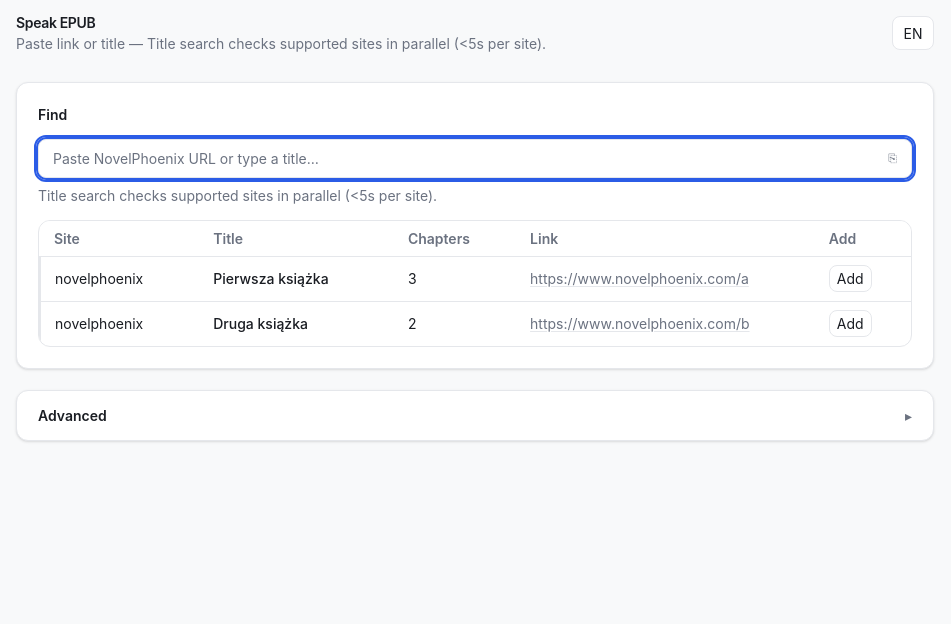
Test case: App — batch queue › converts the queued novels one after another
Click the button with test id "queue-add-0": (850, 279) x1=829 y1=265 x2=872 y2=292
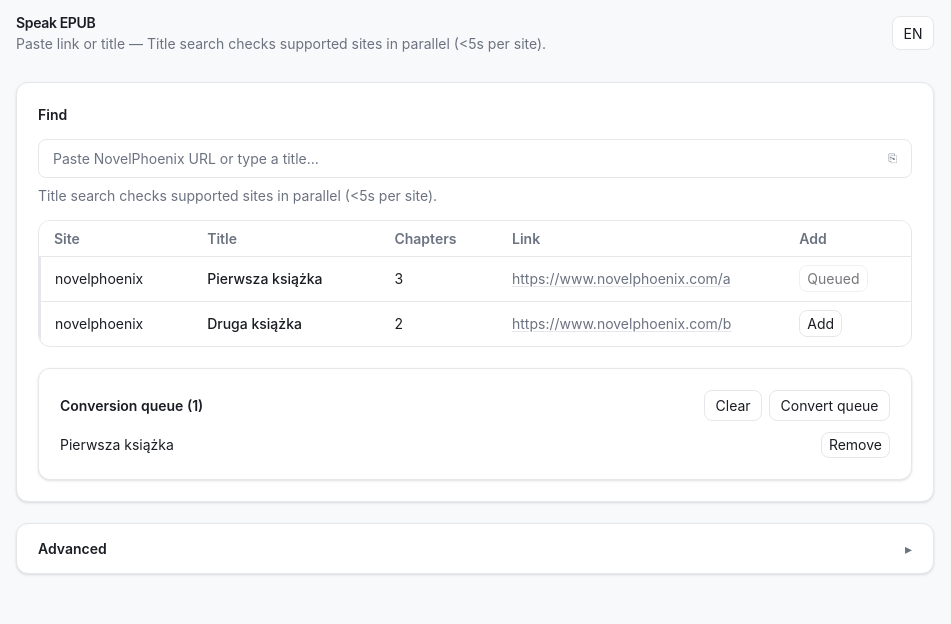
Expected: the element with test id "queue-panel" is shown, x1=38 y1=368 x2=912 y2=480
Click the button with test id "queue-convert": (830, 405) x1=769 y1=390 x2=890 y2=421
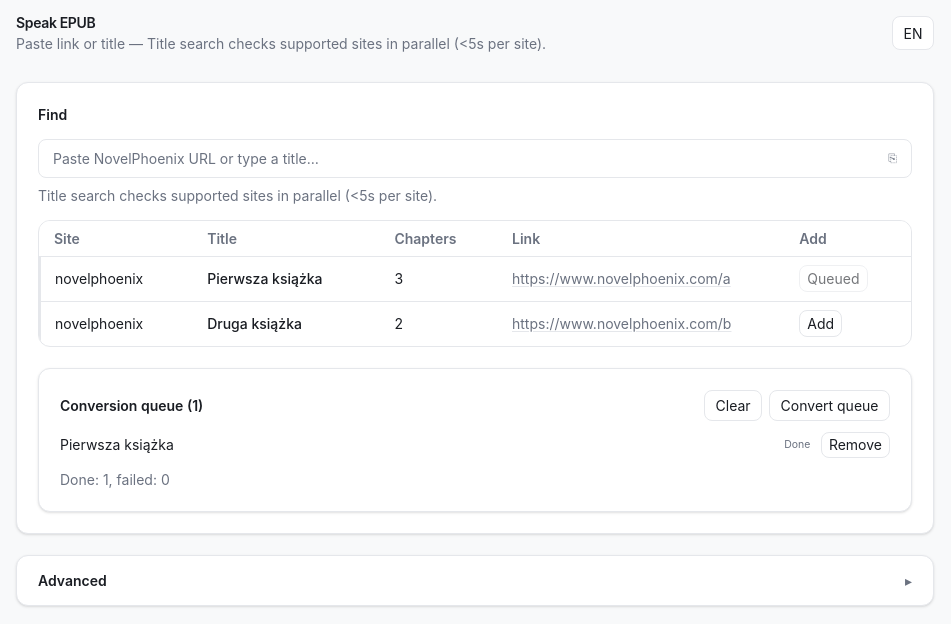
Expected: the text with test id "queue-status-https://www.novelphoenix.com/a" reads "Done", x1=784 y1=438 x2=810 y2=451
